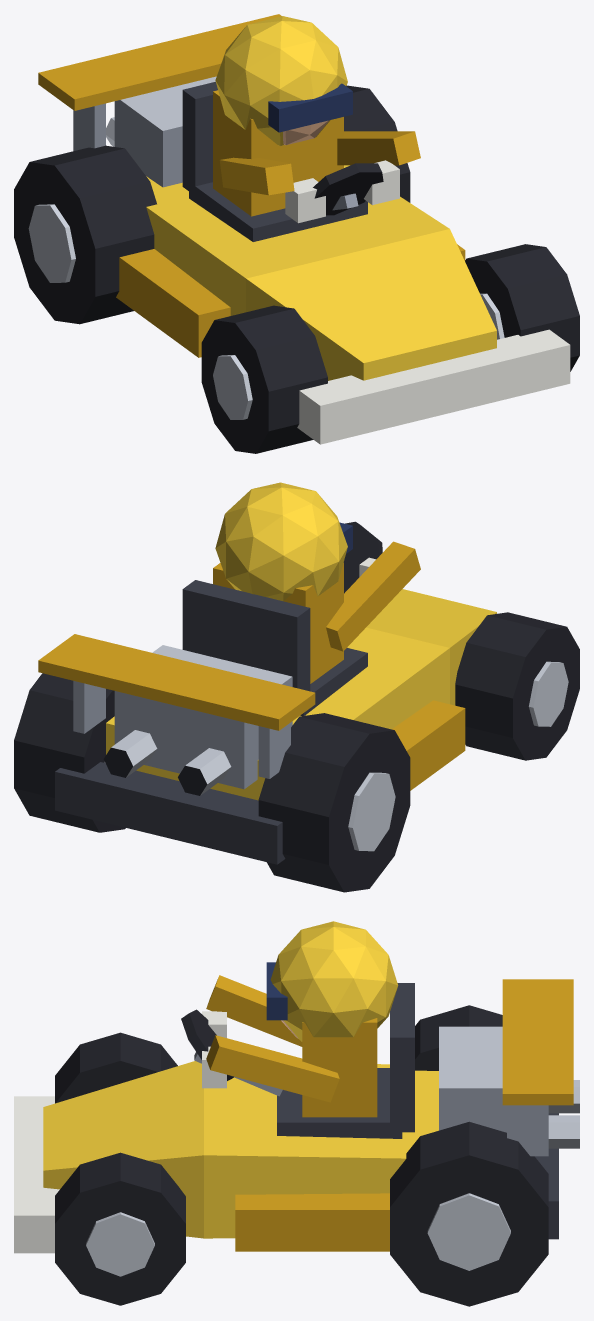
The model's file is kart_yellow.glb.
3 renders of one model, top to bottom at view 1: azimuth 30°, elevation 25°; view 2: azimuth 150°, elevation 25°; view 3: azimuth 270°, elevation 25°, orthographic. The views are drawn at different scales.
Visible parts, largest first — view 1: kart_yellow; view 2: kart_yellow; view 3: kart_yellow.
Boxes of the visible parts, x1,y1,x2,y2 form: kart_yellow: [14, 14, 579, 453]; kart_yellow: [14, 482, 579, 892]; kart_yellow: [14, 921, 579, 1306].
Bounding box in the file's own units: 1.75 × 1.61 × 2.71.
1 material, 1 textured.
